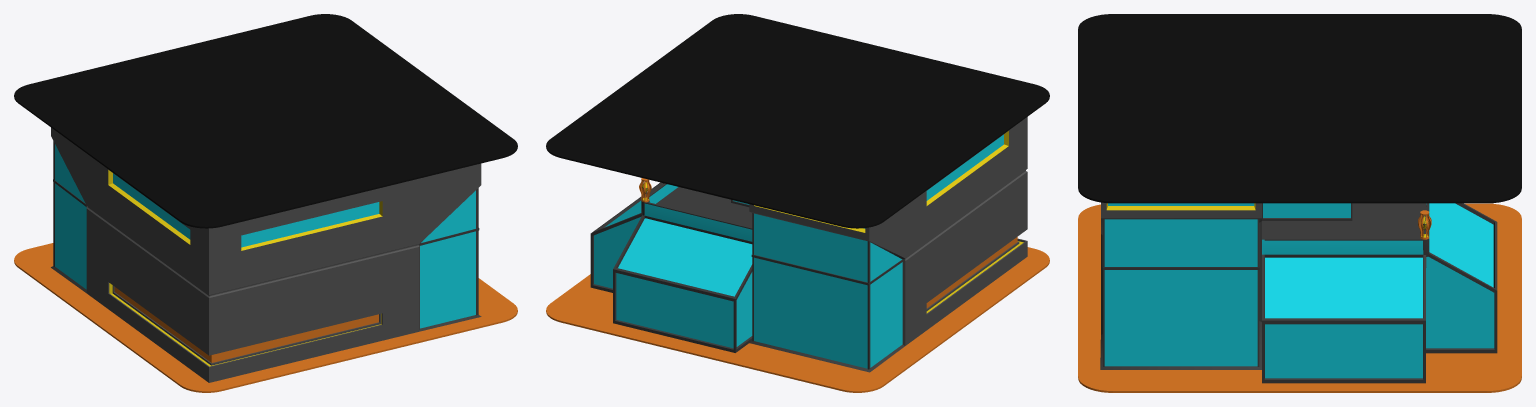
File: SM_MK14_Middle_001.fbx
3 views of the same model, side by side, from view 1: azimuth 30°, elevation 25°; view 2: azimuth 150°, elevation 25°; view 3: azimuth 270°, elevation 25° (orthographic). The views are drawn at different scales.
Visible parts, largest first — view 1: SM_MK14_Middle_001; view 2: SM_MK14_Middle_001; view 3: SM_MK14_Middle_001.
Boxes of the visible parts, x1,y1,x2,y2 form: SM_MK14_Middle_001: (14, 14, 517, 392); SM_MK14_Middle_001: (546, 14, 1049, 392); SM_MK14_Middle_001: (1078, 14, 1521, 392).
Size of the model in its own units: 2100 by 1000 by 2100.
